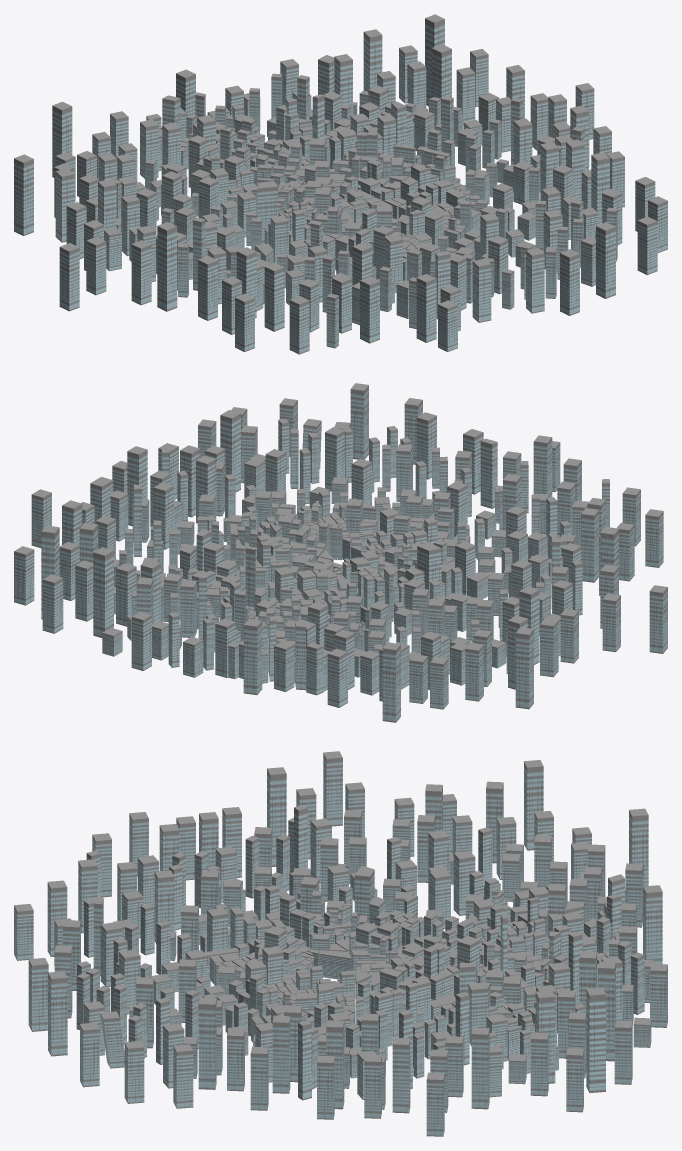
The model's file is bildings.fbx.
The picture shows the model from 3 angles, top to bottom: view 1: azimuth 30°, elevation 25°; view 2: azimuth 150°, elevation 25°; view 3: azimuth 270°, elevation 25°; orthographic projection. The views are drawn at different scales.
Visible parts, largest first — view 1: Cube.008; view 2: Cube.008; view 3: Cube.008, Cube.001.
Boxes of the visible parts, <box> form: Cube.008: <box>14,14,667,354</box>; Cube.008: <box>14,383,667,722</box>; Cube.008: <box>14,751,667,1136</box>; Cube.001: <box>319,950,351,979</box>.
Bounding box in the file's own units: 1243 × 178 × 1081.
